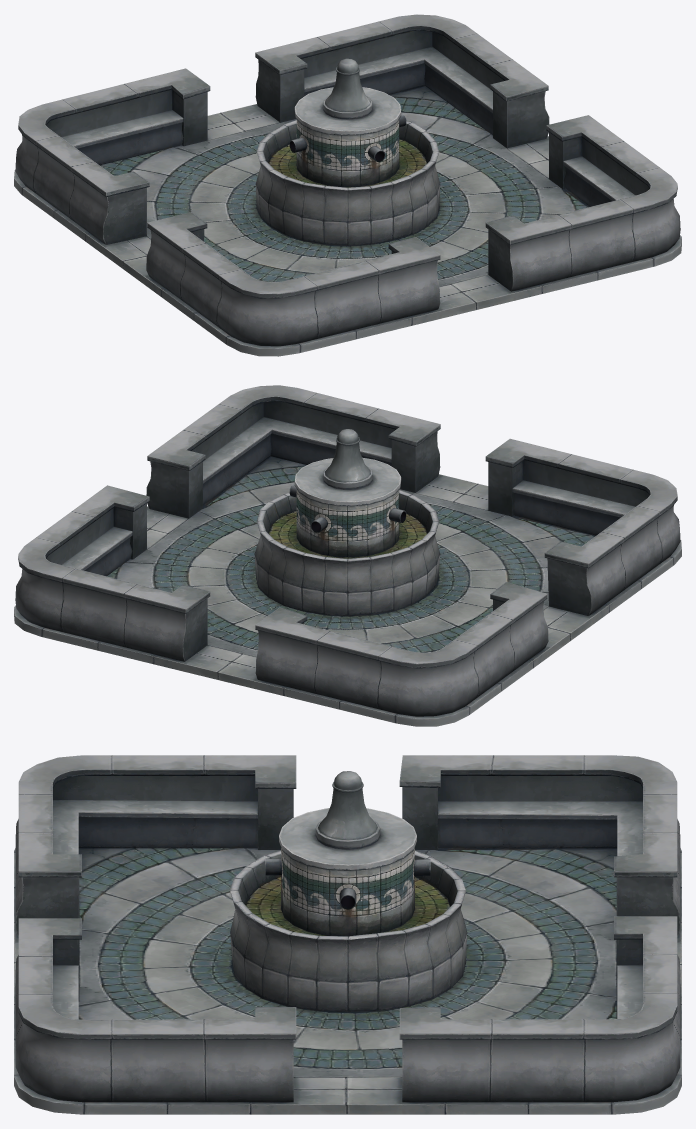
File: fountain.fbx
3 renders of one model, top to bottom at view 1: azimuth 30°, elevation 25°; view 2: azimuth 150°, elevation 25°; view 3: azimuth 270°, elevation 25°, orthographic. The views are drawn at different scales.
Visible parts, largest first — view 1: GEOM0_LOD0; view 2: GEOM0_LOD0; view 3: GEOM0_LOD0.
Boxes of the visible parts, <box> form: GEOM0_LOD0: <box>14,14,681,356</box>; GEOM0_LOD0: <box>14,385,681,726</box>; GEOM0_LOD0: <box>14,755,681,1114</box>.
Size of what is drawn, in the model's own units: 920 by 306 by 920.
